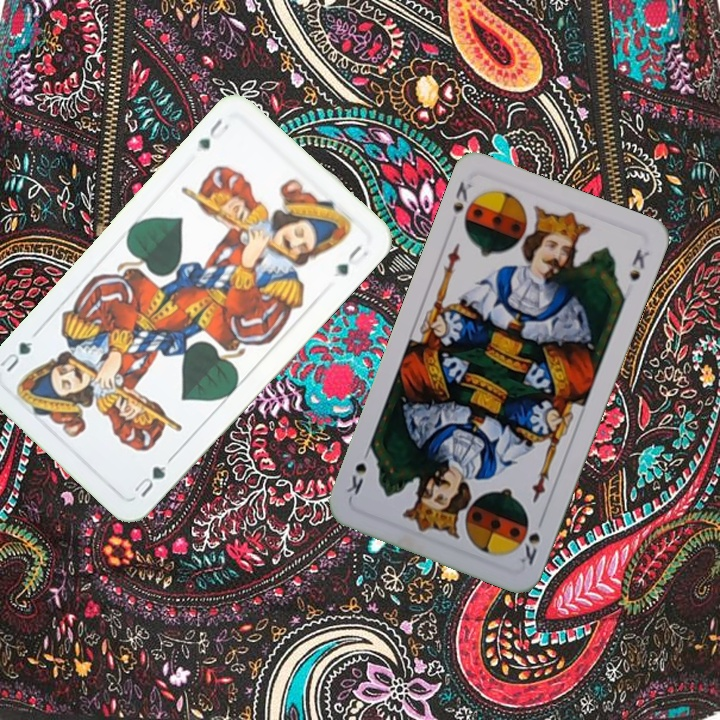GU: (130, 460, 169, 500), (194, 114, 232, 152)
SK: (512, 518, 543, 568), (448, 177, 475, 216)
